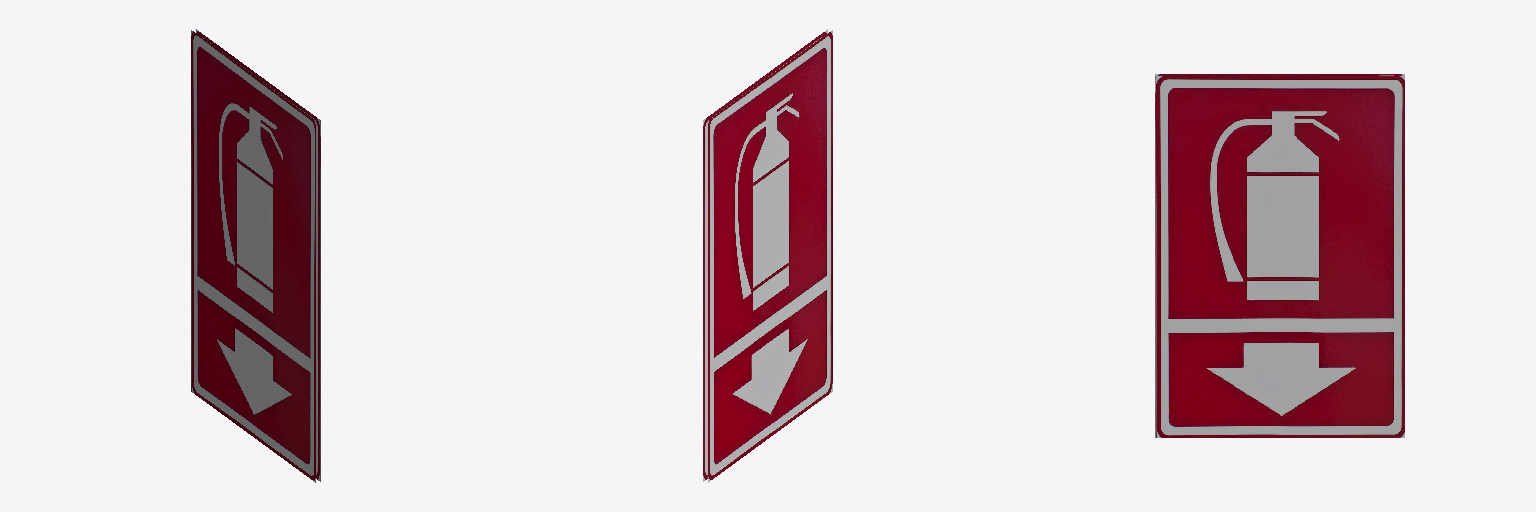
3 renders of one model, left to right at view 1: azimuth 30°, elevation 25°; view 2: azimuth 150°, elevation 25°; view 3: azimuth 270°, elevation 25°, orthographic.
Visible parts, largest first — view 1: Cube_Cube.001; view 2: Cube_Cube.001; view 3: Cube_Cube.001.
Part boxes in pixels (x1,y1,x2,y2): Cube_Cube.001: (191, 29, 320, 482); Cube_Cube.001: (703, 29, 832, 482); Cube_Cube.001: (1155, 74, 1404, 437).
Size of the model in its own units: 0.0049 by 0.4 by 0.25.
Materials: 1 (1 with a texture image).